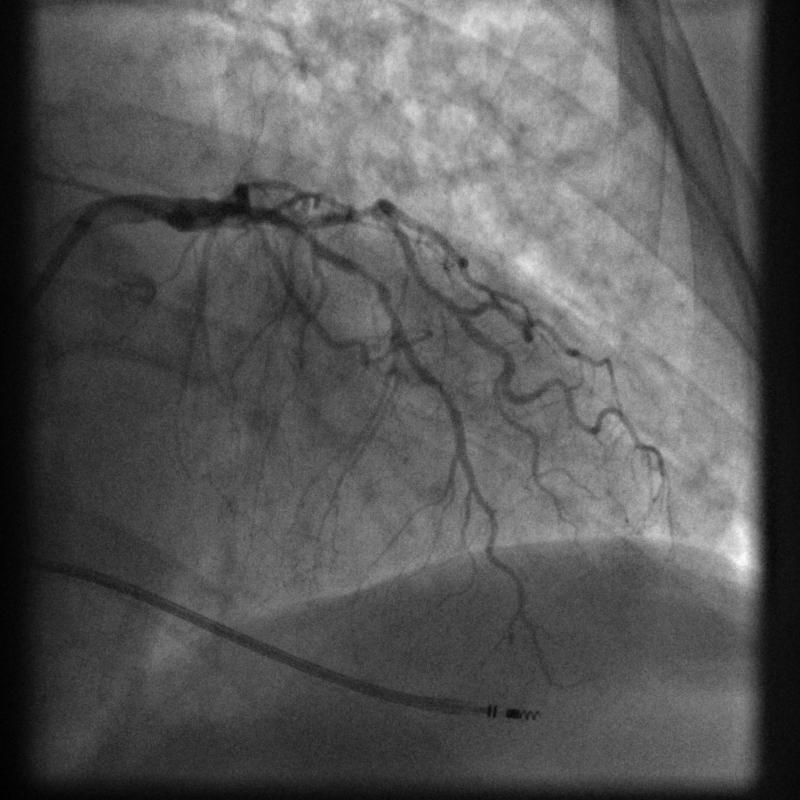Stenosis: (355, 255, 391, 310)
